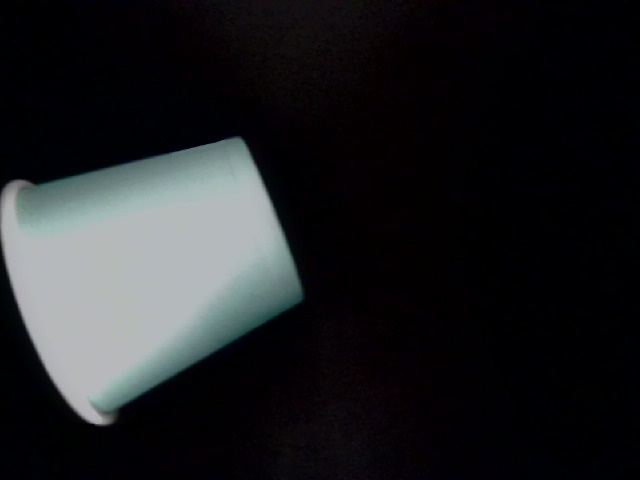KHSLJ: (39, 331, 355, 480)
